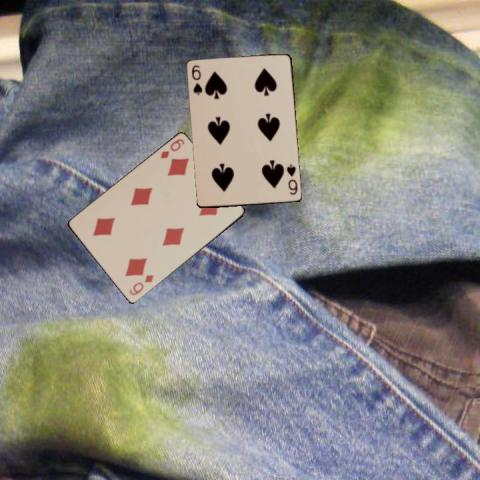6d: (126, 272, 155, 297), (157, 136, 186, 160)
6s: (284, 162, 299, 197), (189, 62, 204, 97)
